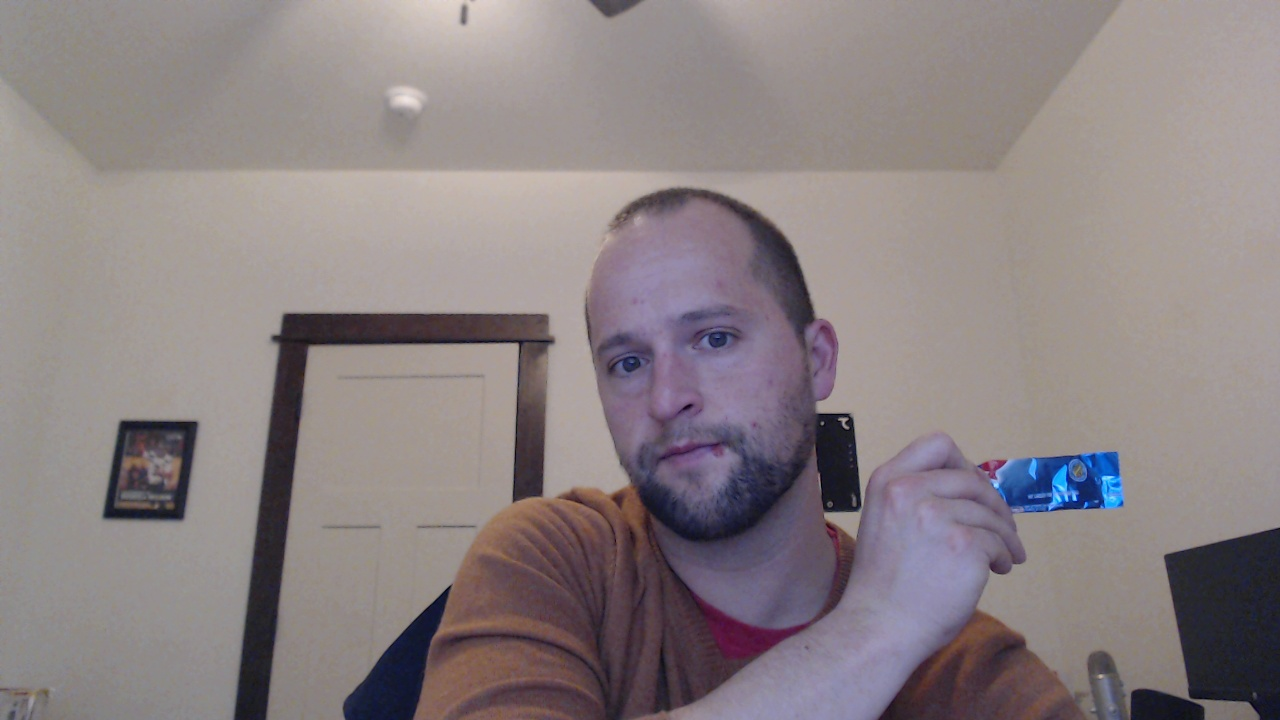airheads: (960, 445, 1153, 528)
